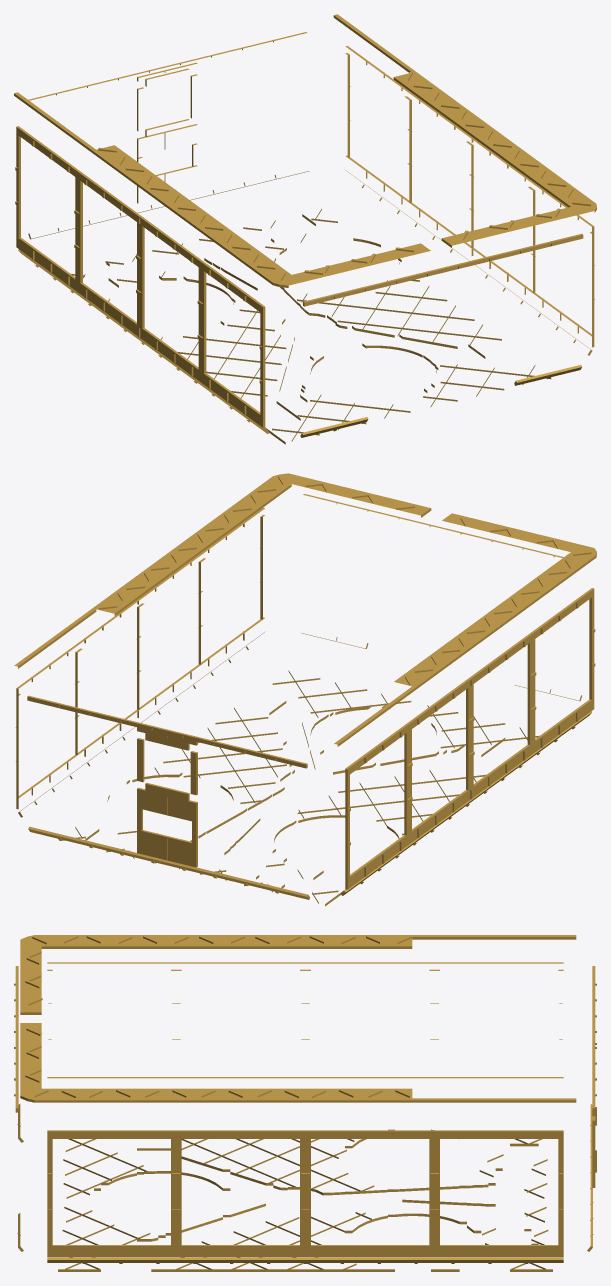
Rendered from thermal_insulation.glb.
3 views of the same model, one above another, from view 1: azimuth 30°, elevation 25°; view 2: azimuth 150°, elevation 25°; view 3: azimuth 270°, elevation 25° (orthographic). The views are drawn at different scales.
Visible parts, largest first — view 1: mli_sides; view 2: mli_sides; view 3: mli_sides.
Part boxes in pixels (x1,y1,x2,y2): mli_sides: [14, 14, 596, 444]; mli_sides: [14, 473, 596, 906]; mli_sides: [14, 935, 596, 1271].
Bounding box in the file's own units: 1.13 × 0.5761 × 1.63.
